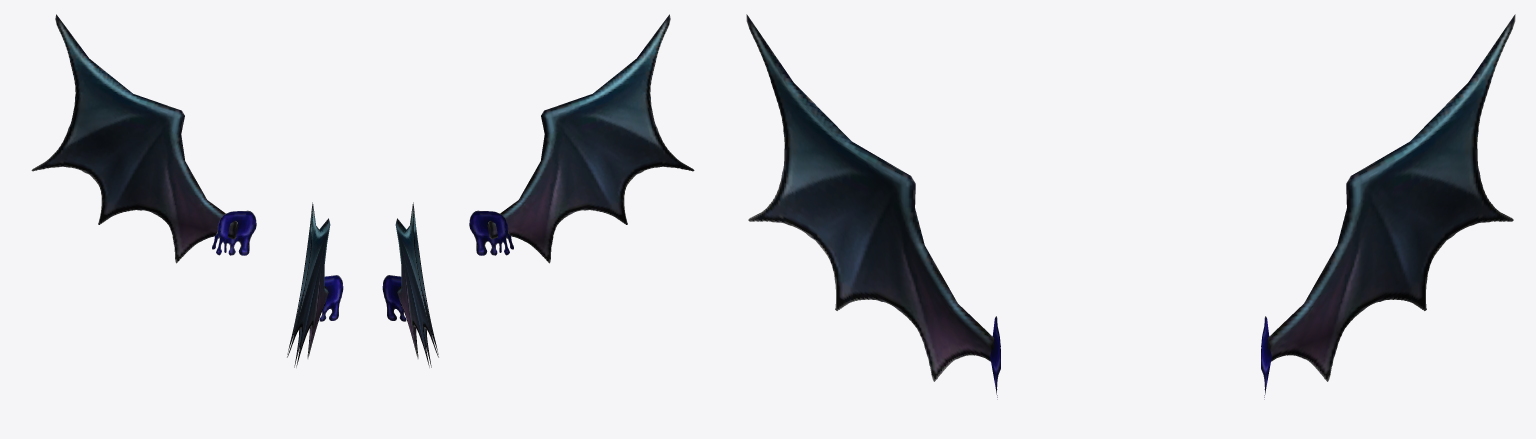
The model's file is head_6100504.FBX.
3 renders of one model, left to right at view 1: azimuth 30°, elevation 25°; view 2: azimuth 150°, elevation 25°; view 3: azimuth 270°, elevation 25°, orthographic. The views are drawn at different scales.
Parts seen in each view (by area): view 1: head_6100504; view 2: head_6100504; view 3: head_6100504.
Part boxes in pixels (x1,y1,x2,y2): head_6100504: [31, 14, 343, 367]; head_6100504: [382, 14, 694, 367]; head_6100504: [746, 14, 1515, 399].
Bounding box in the file's own units: 20.08 × 27.48 × 56.16.
